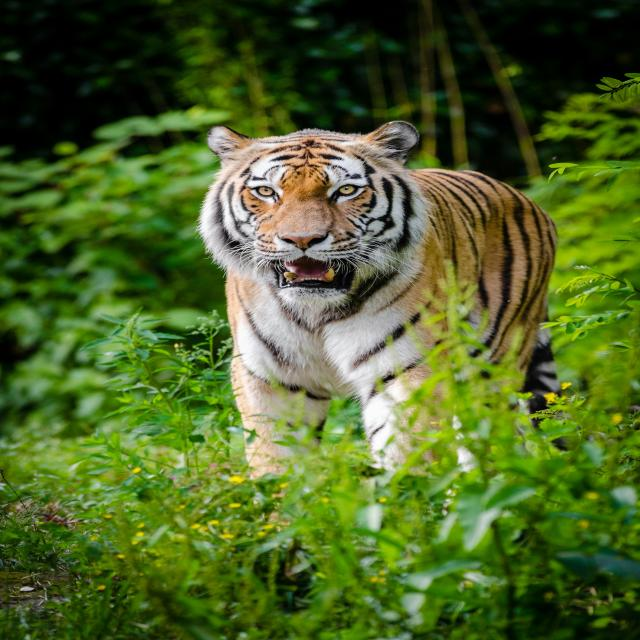Tiger: (197, 121, 562, 476)
